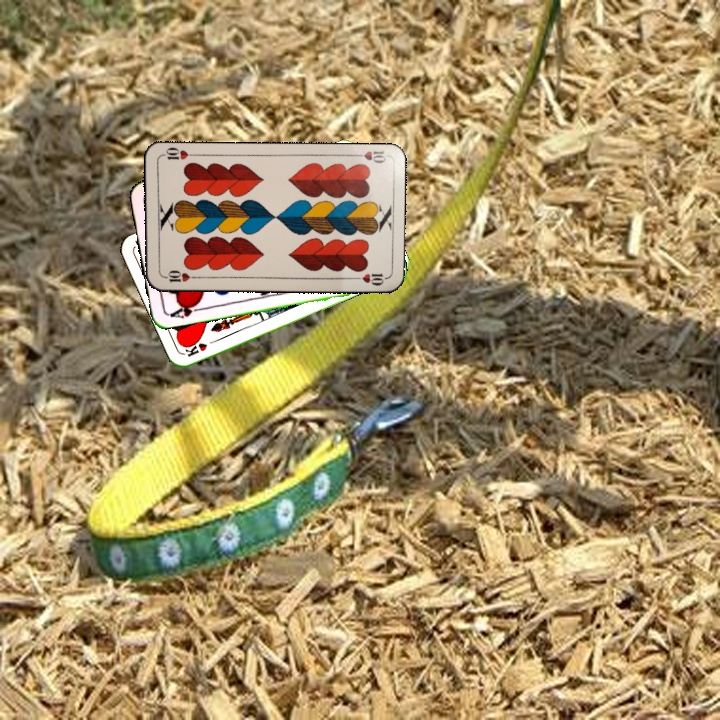H10: (348, 147, 389, 166), (159, 267, 199, 284)
HA: (165, 298, 205, 321)
HK: (181, 335, 221, 360)
